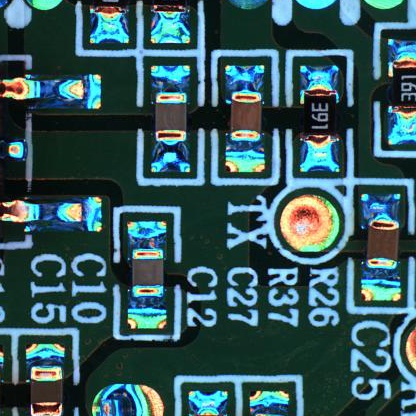spot: (274, 191, 342, 256)
